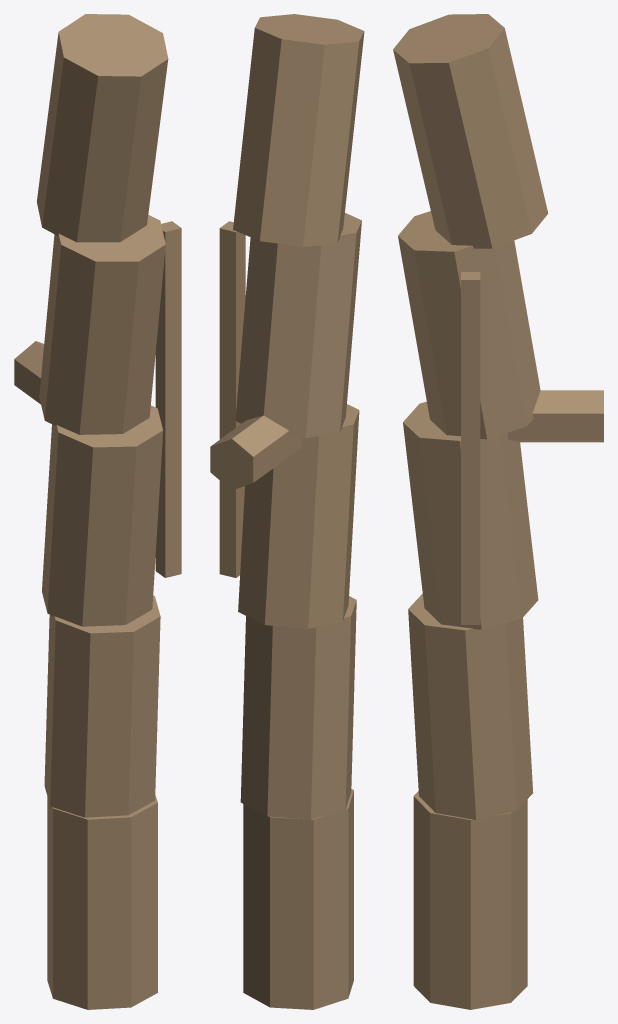
The model's file is stick_3.glb.
3 renders of one model, left to right at view 1: azimuth 30°, elevation 25°; view 2: azimuth 150°, elevation 25°; view 3: azimuth 270°, elevation 25°, orthographic.
Visible parts, largest first — view 1: shaft_4, shaft_3, shaft_2, shaft_1, shaft_0, ridges, branch; view 2: shaft_4, shaft_1, shaft_0, shaft_3, shaft_2, ridges, branch; view 3: shaft_4, shaft_1, shaft_0, shaft_3, shaft_2, ridges, branch.
Boxes of the visible parts, x1=… form: shaft_4: x1=36, y1=14, x2=168, y2=242; shaft_3: x1=39, y1=215, x2=165, y2=434; shaft_2: x1=42, y1=405, x2=163, y2=626; shaft_1: x1=44, y1=595, x2=160, y2=817; shaft_0: x1=47, y1=795, x2=157, y2=1009; ridges: x1=155, y1=221, x2=181, y2=577; branch: x1=14, y1=341, x2=44, y2=404; shaft_4: x1=233, y1=14, x2=364, y2=246; shaft_1: x1=240, y1=596, x2=356, y2=819; shaft_0: x1=243, y1=789, x2=353, y2=1009; shaft_3: x1=235, y1=213, x2=361, y2=437; shaft_2: x1=238, y1=404, x2=359, y2=628; ridges: x1=219, y1=221, x2=245, y2=577; branch: x1=210, y1=415, x2=301, y2=490; shaft_4: x1=393, y1=14, x2=548, y2=248; shaft_1: x1=408, y1=594, x2=533, y2=819; shaft_0: x1=413, y1=791, x2=527, y2=1009; shaft_3: x1=398, y1=211, x2=540, y2=439; shaft_2: x1=403, y1=401, x2=538, y2=629; ridges: x1=461, y1=272, x2=480, y2=624; branch: x1=507, y1=390, x2=603, y2=442.
Size of the model in its own units: 0.075 by 0.555 by 0.1108.
